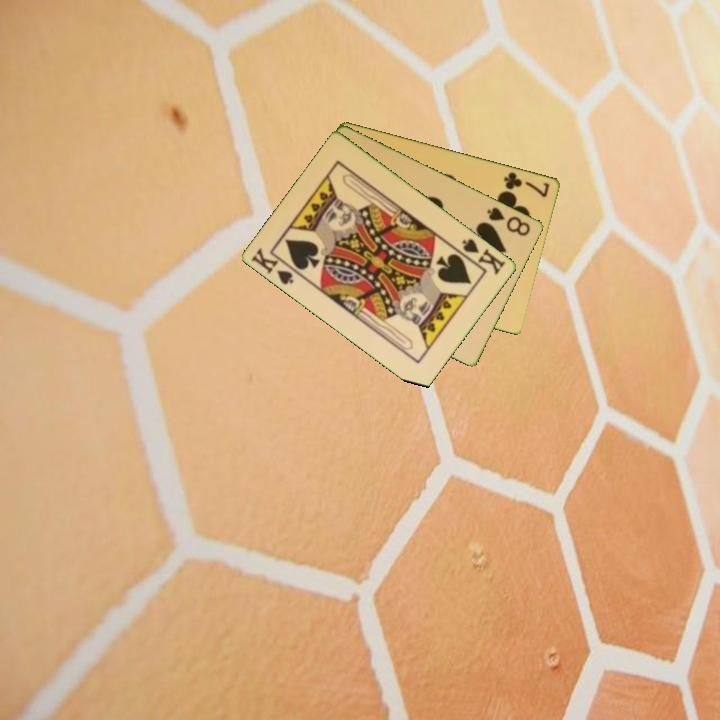7c: (500, 168, 553, 200)
8s: (484, 203, 534, 239)
Ks: (248, 244, 304, 287), (459, 235, 509, 278)
